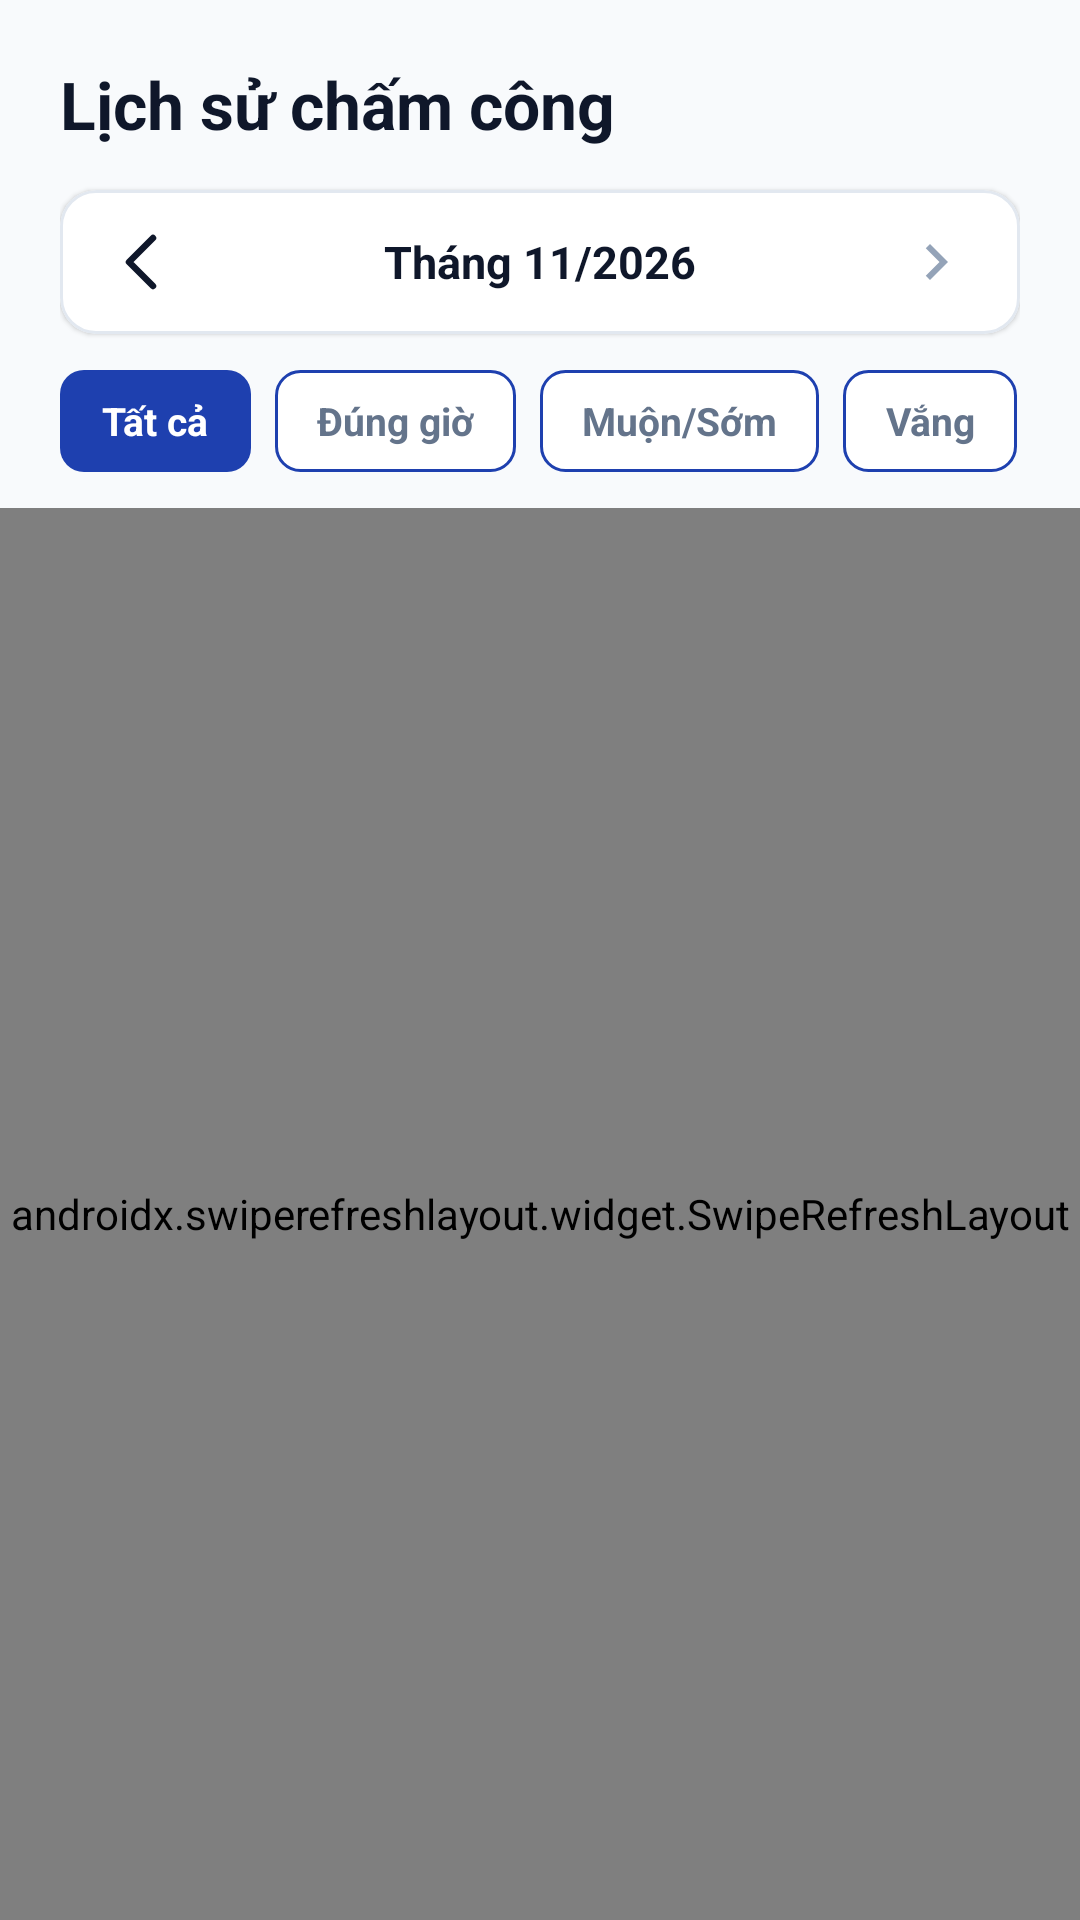

Where to tap for icons on this 1080px×1920px app screen, as (x=x, y=y):
Next: (x=937, y=262)
Previous: (x=141, y=262)
